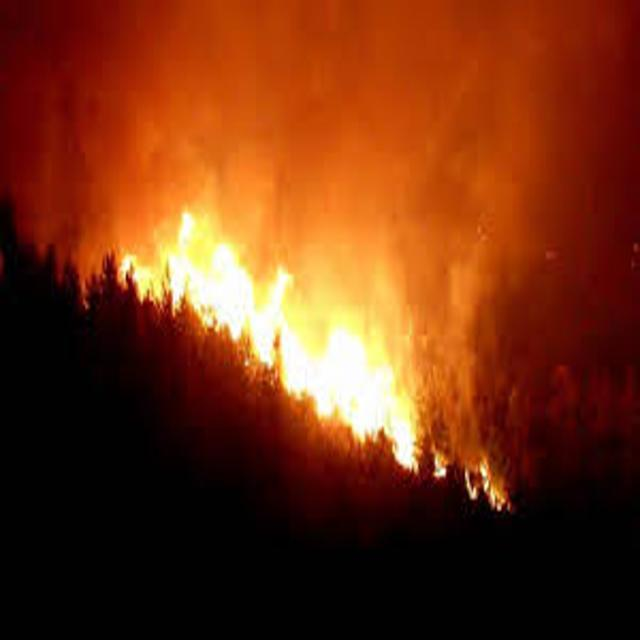Fire: (84, 188, 540, 562)
Smoke: (0, 0, 640, 185)
